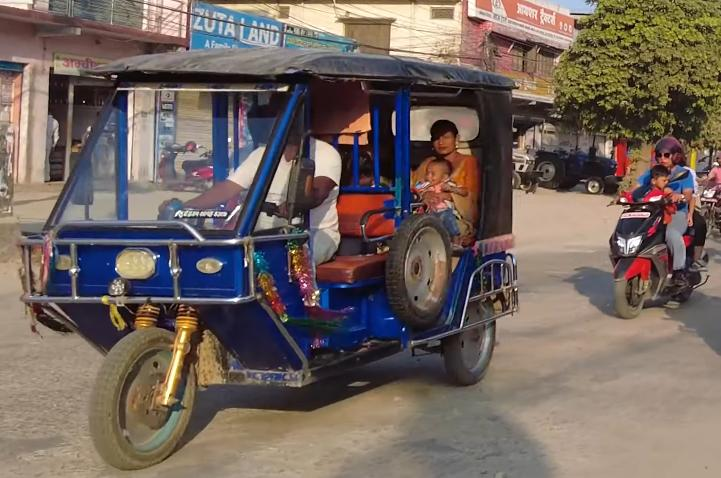e-rickshaw: (6, 44, 534, 478)
scooter: (603, 186, 710, 316), (152, 142, 220, 192)
